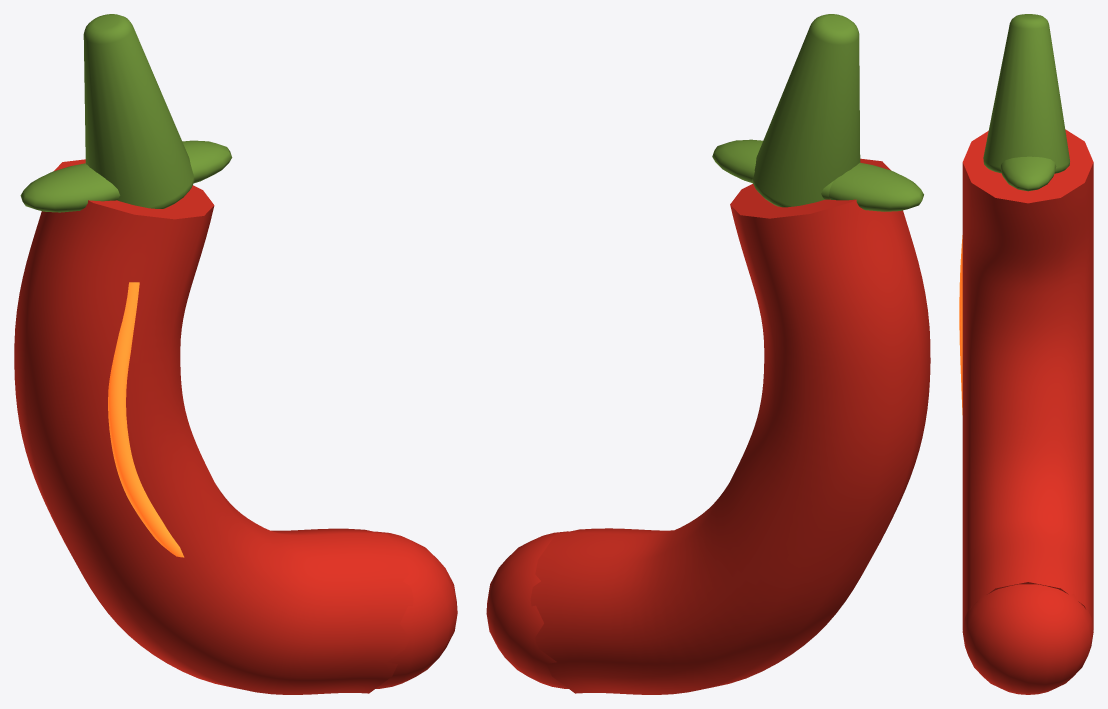
Rendered from ingredient-chili.glb.
The picture shows the model from 3 angles, left to right: view 1: azimuth 30°, elevation 25°; view 2: azimuth 150°, elevation 25°; view 3: azimuth 270°, elevation 25°; orthographic projection. The views are drawn at different scales.
Parts seen in each view (by area): view 1: Chili_body, Chili_stem, Chili_tip, Chili_glow_seam, Chili_leaf_0, Chili_leaf_3; view 2: Chili_body, Chili_stem, Chili_tip, Chili_leaf_0, Chili_leaf_3; view 3: Chili_body, Chili_tip, Chili_stem, Chili_leaf_3, Chili_glow_seam.
Part boxes in pixels (box(x1,y1,x2,y2)): Chili_body: box(14, 159, 413, 694); Chili_stem: box(83, 14, 194, 208); Chili_tip: box(375, 531, 457, 688); Chili_glow_seam: box(108, 282, 184, 557); Chili_leaf_0: box(20, 163, 115, 212); Chili_leaf_3: box(182, 140, 232, 183); Chili_body: box(530, 158, 930, 694); Chili_stem: box(752, 14, 860, 207); Chili_tip: box(486, 531, 568, 688); Chili_leaf_0: box(829, 162, 923, 211); Chili_leaf_3: box(712, 139, 762, 182); Chili_body: box(962, 129, 1093, 630); Chili_tip: box(962, 584, 1093, 694); Chili_stem: box(983, 14, 1069, 173); Chili_leaf_3: box(1000, 156, 1056, 191); Chili_glow_seam: box(959, 235, 962, 414).
Bounding box in the file's own units: 0.9461 × 1.54 × 0.3281.
